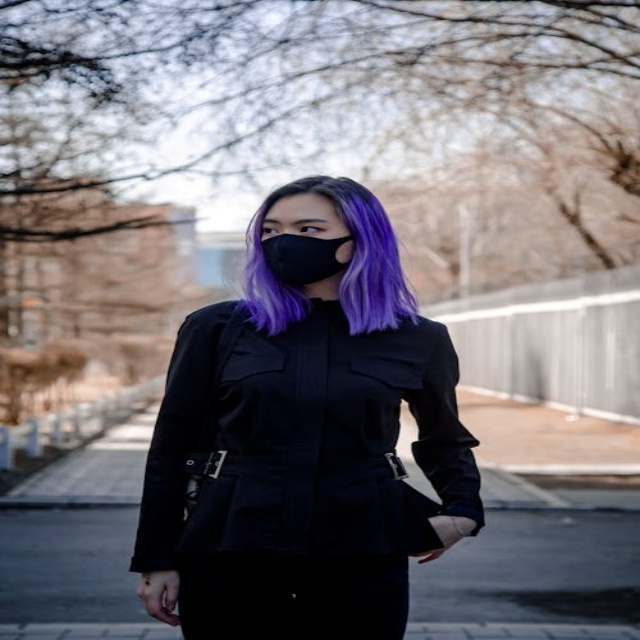Mascara: (259, 233, 355, 285)
Sin_gafas: (260, 213, 338, 237)
Sin_guantes: (406, 510, 481, 567), (134, 572, 180, 626)
